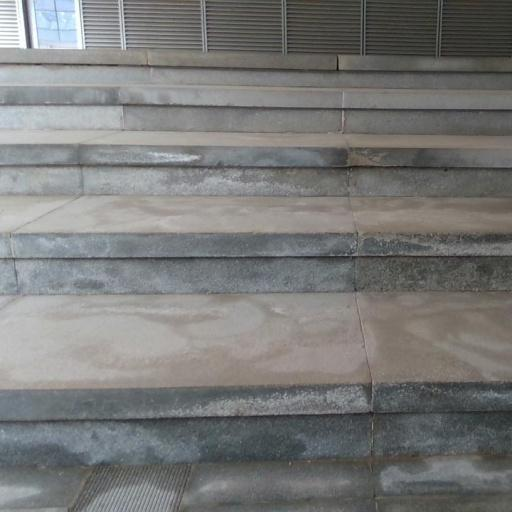stairs: (0, 52, 511, 466)
